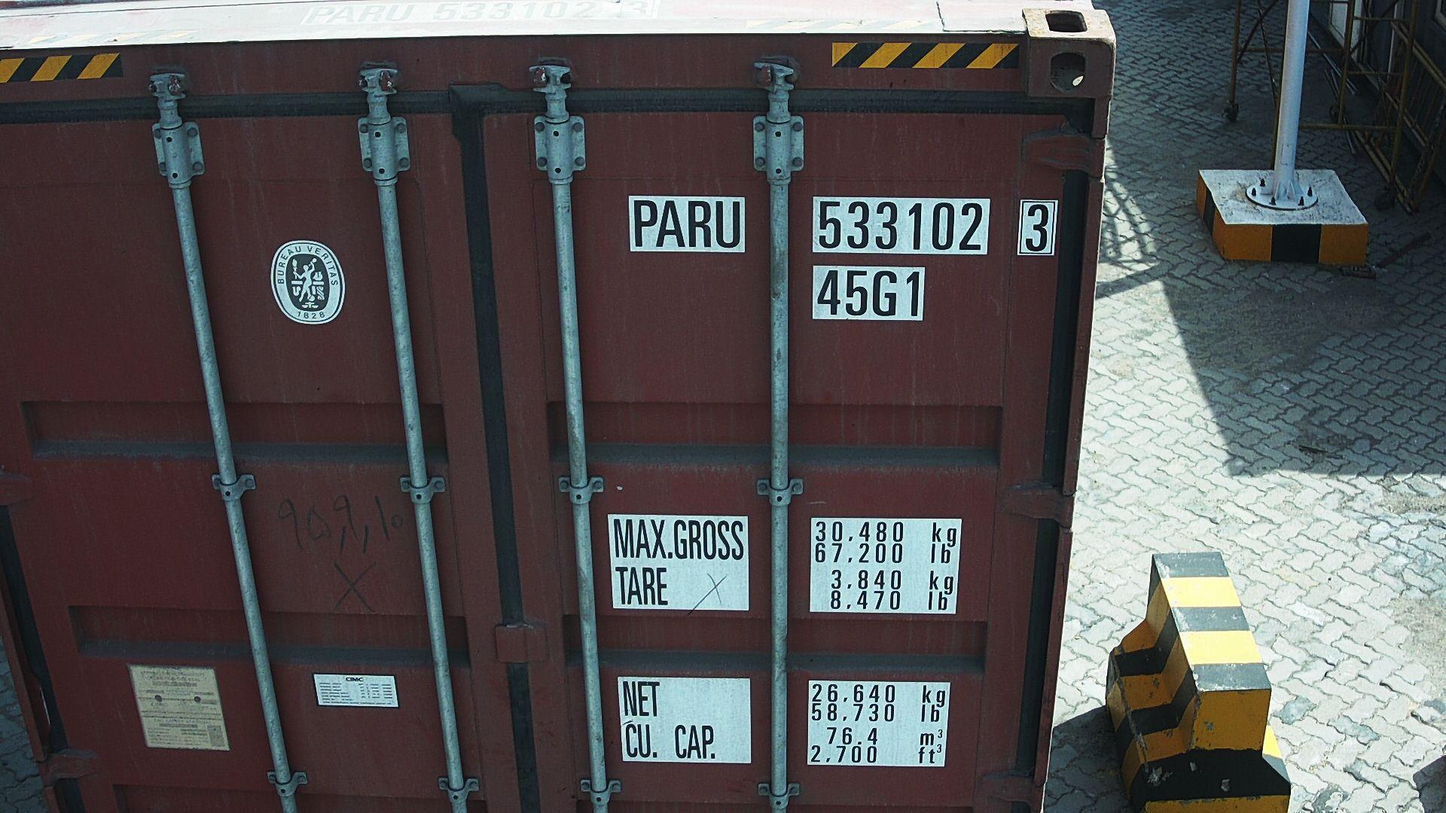container-numbers: (622, 192, 1061, 260), (297, 0, 673, 26), (810, 263, 929, 320)
